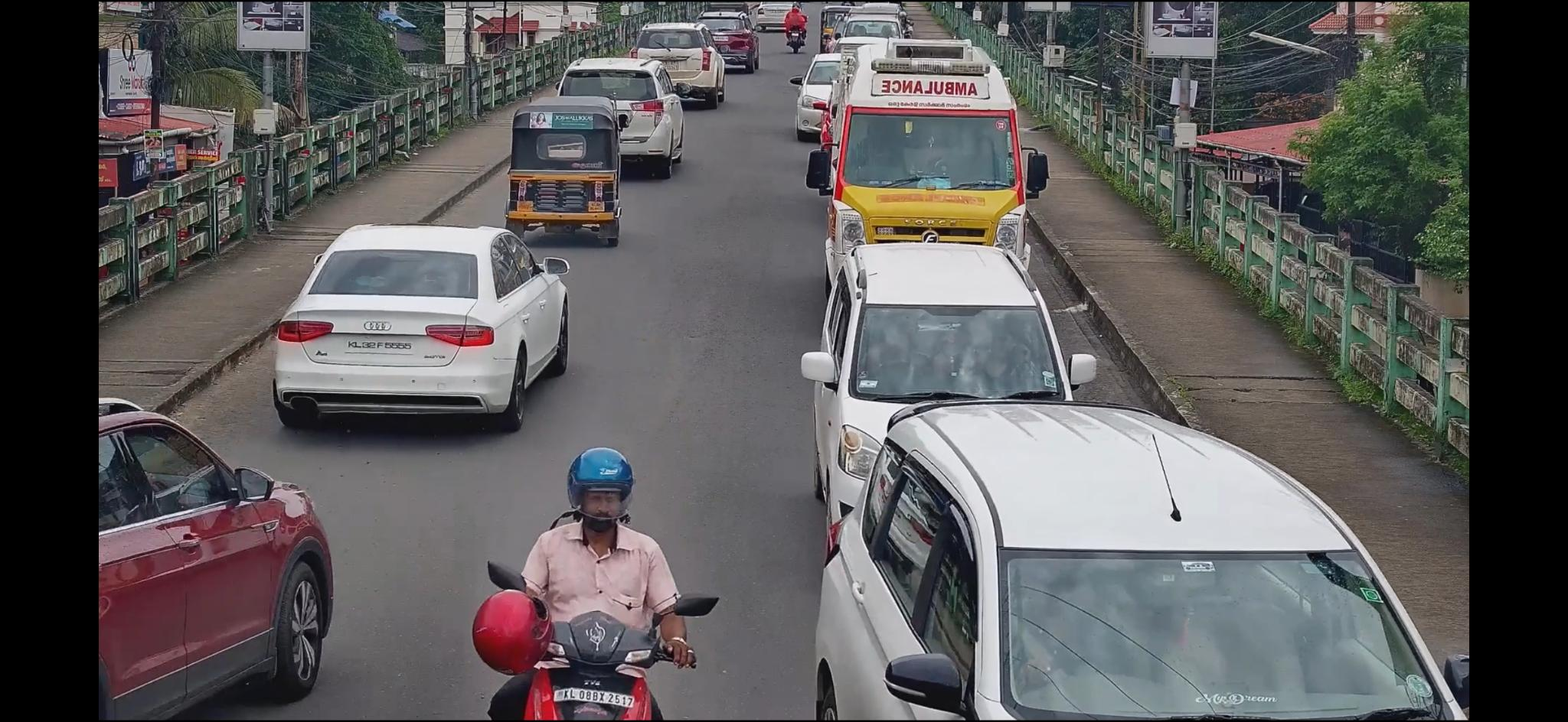ambulance: (827, 32, 1031, 273)
